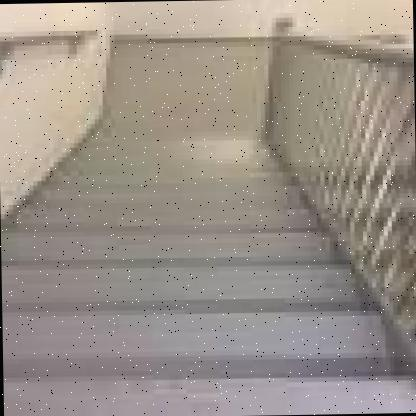stair: (0, 97, 366, 416)
